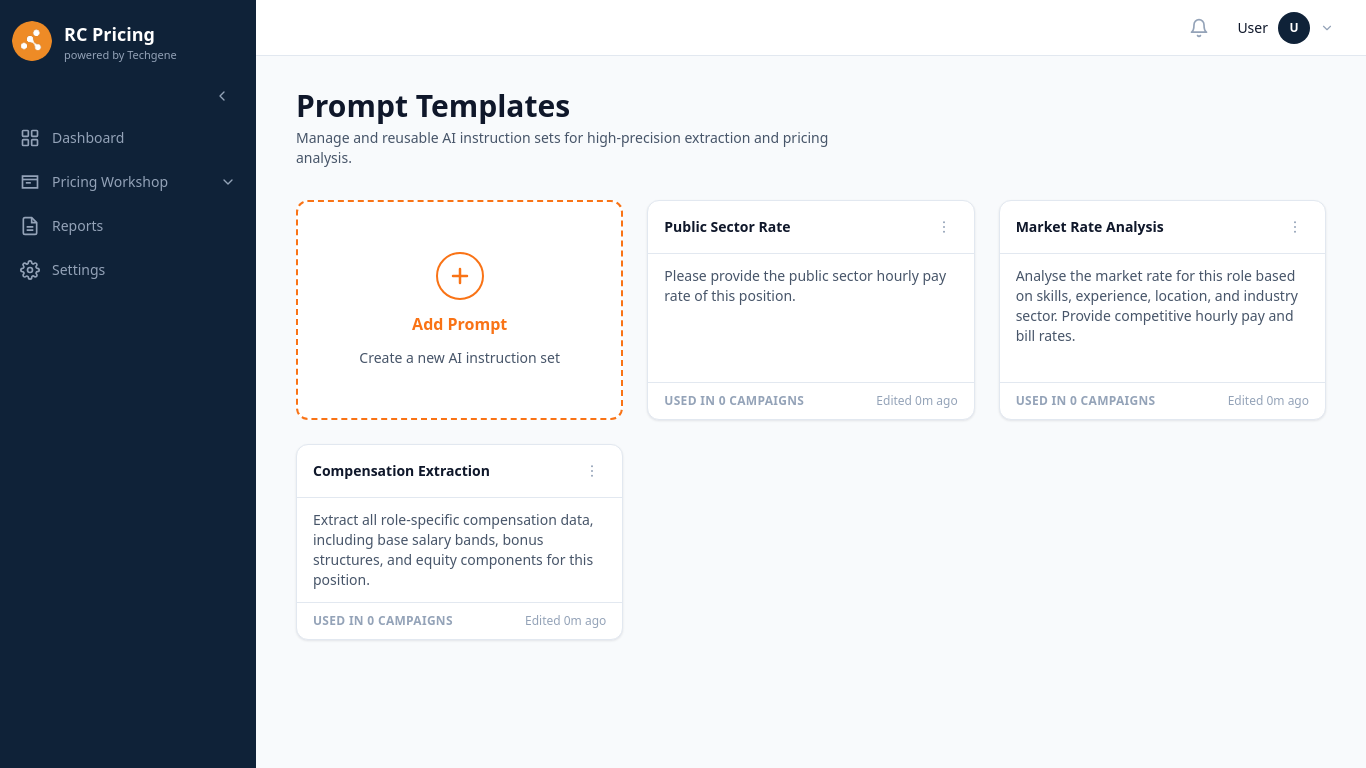
PromptTemplateView — Edit › opens the modal pre-filled with the existing template's name and content
Expected: the text "Public Sector Rate" is shown, x1=664 y1=217 x2=790 y2=236
Click the button named "More options" next to "Public Sector Rate".
click(944, 227)  # box x1=930 y1=213 x2=958 y2=241
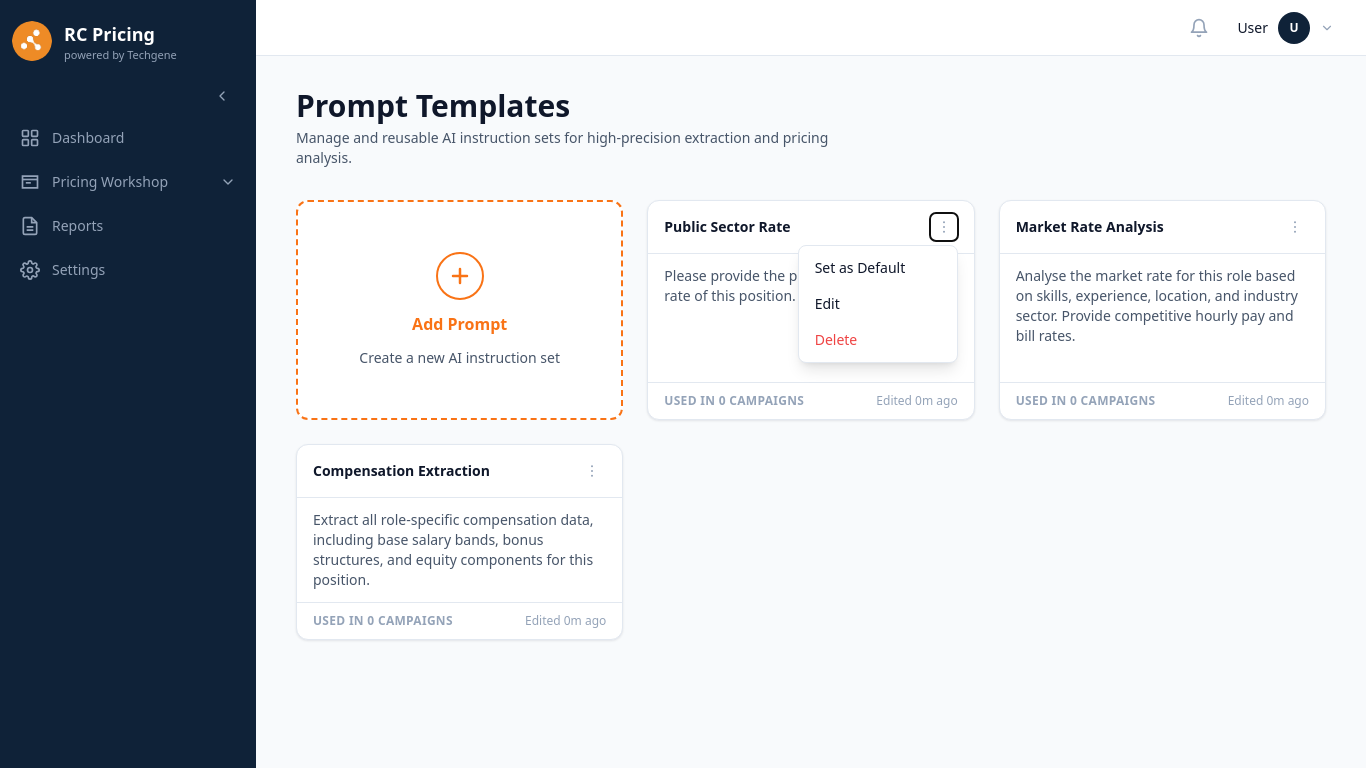
Click the button "Edit".
click(878, 304)  # box x1=799 y1=286 x2=957 y2=322
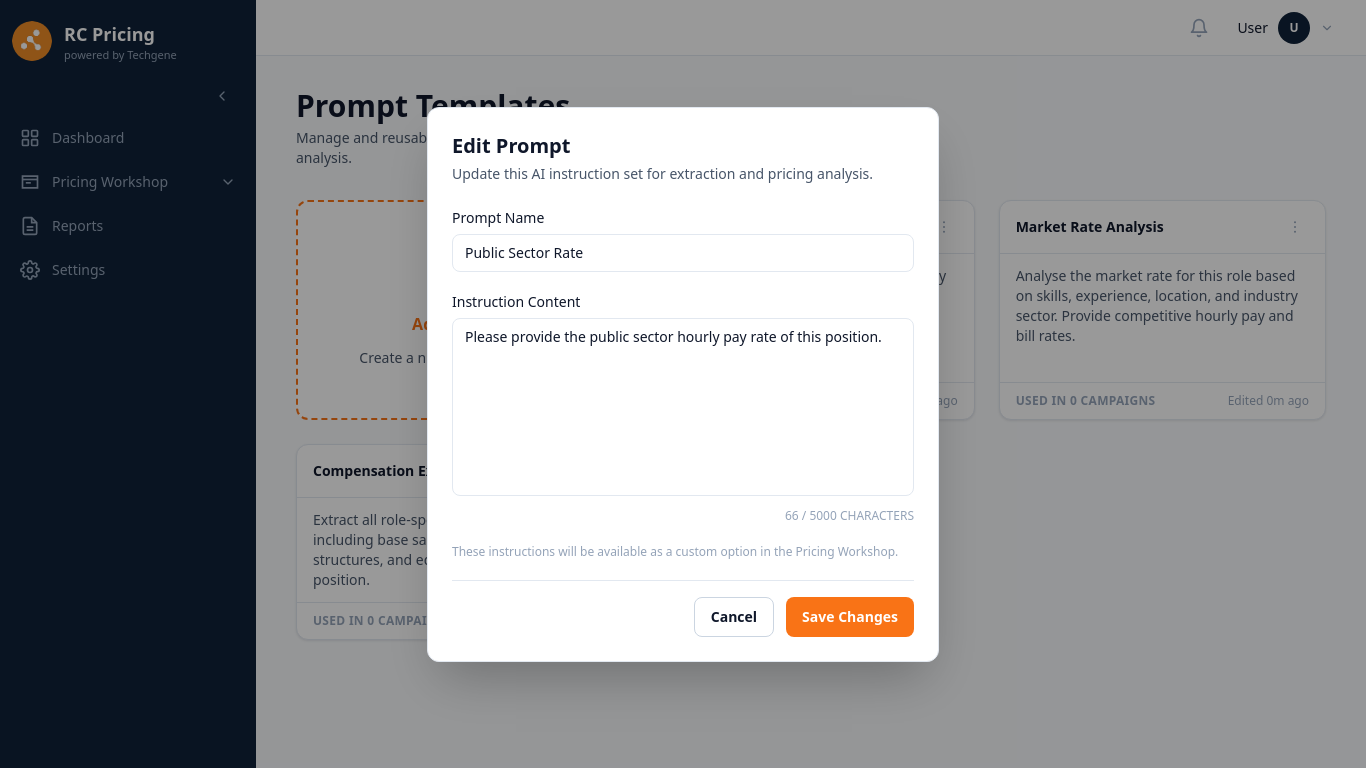
Expected: the heading "Edit Prompt" is shown, x1=452 y1=132 x2=570 y2=158
Expected: the field showing "Public Sector Rate" is shown, x1=452 y1=234 x2=914 y2=272
Expected: the text box showing "Please provide the public sector hourly pay rate of this position." is shown, x1=452 y1=318 x2=914 y2=496
